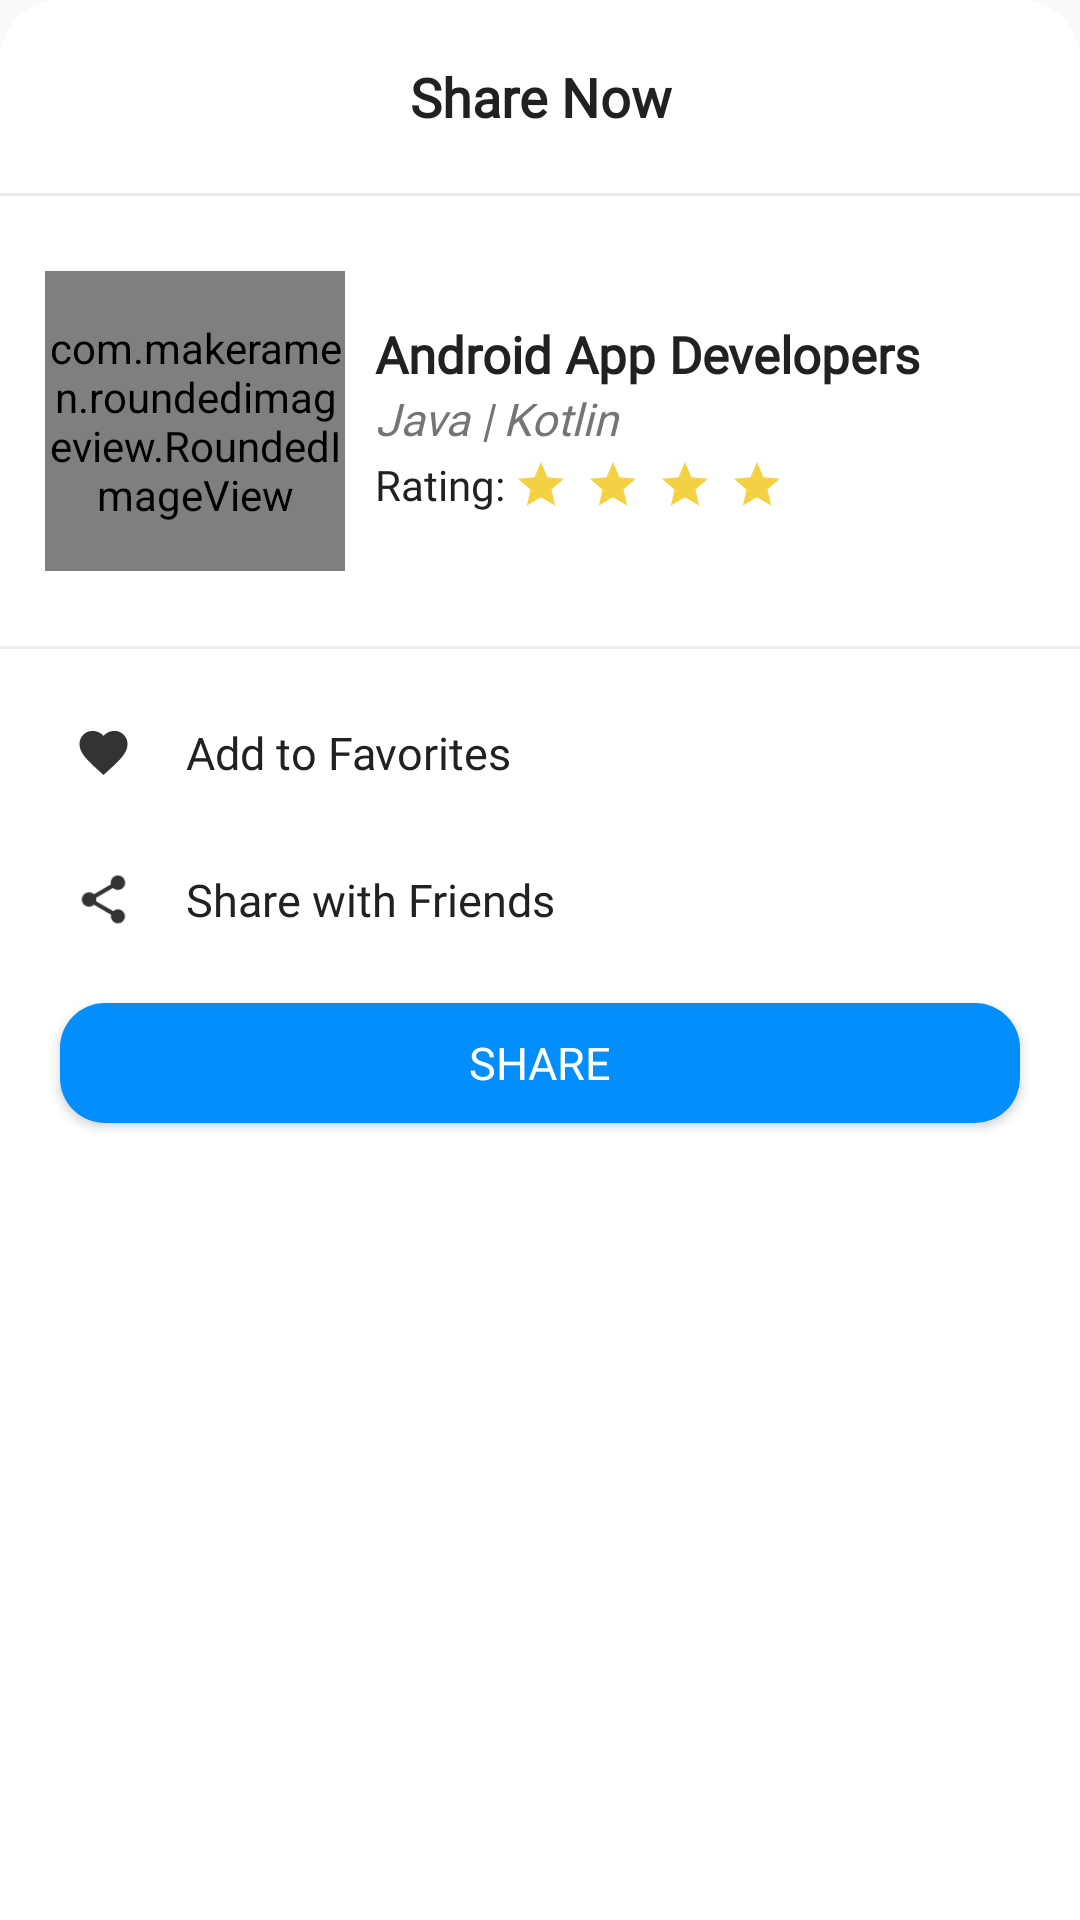

Named icons in this screenshot (1080px x 1920px) and their bounding boxes, [left=x1, top=y1, right=x2, bottom=y2]:
favourite: [left=79, top=731, right=128, bottom=775]
full starr: [left=518, top=462, right=564, bottom=506], [left=590, top=462, right=636, bottom=506], [left=662, top=462, right=708, bottom=506], [left=734, top=462, right=780, bottom=506]
